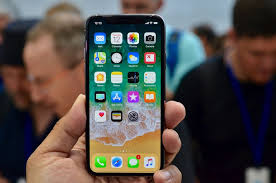iphone: (85, 11, 167, 172)
iphone10: (85, 11, 167, 172)
